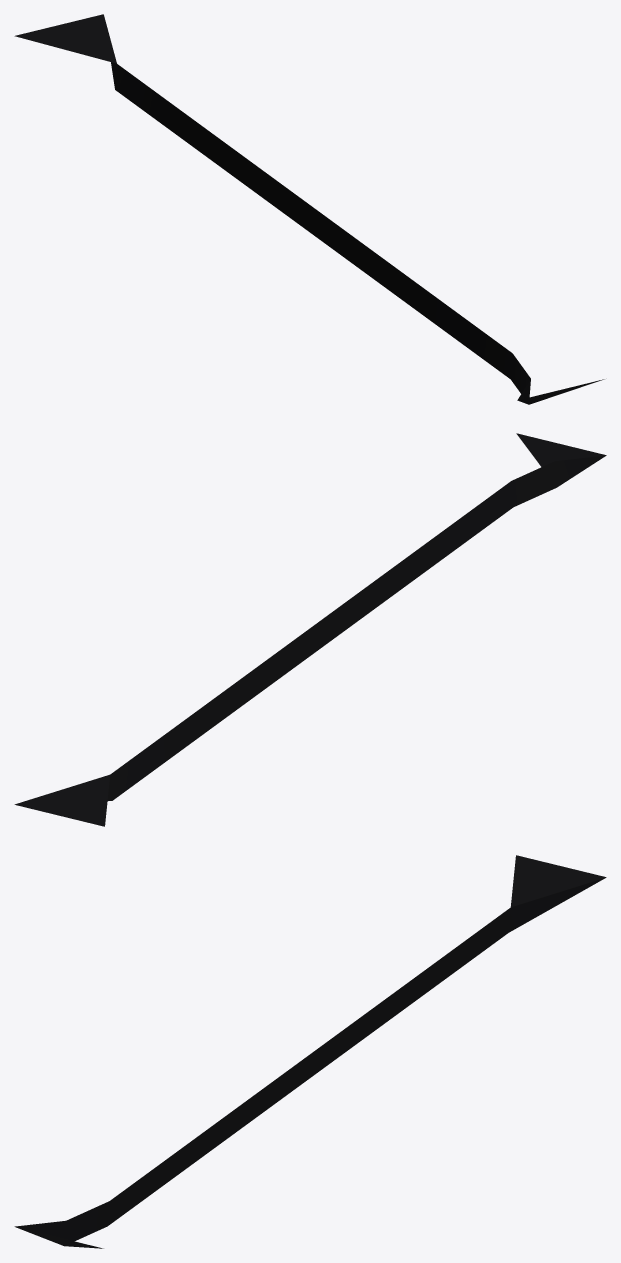
File: skirt_L_skirt.glb
The picture shows the model from 3 angles, top to bottom: view 1: azimuth 30°, elevation 25°; view 2: azimuth 150°, elevation 25°; view 3: azimuth 330°, elevation 25°; orthographic projection.
Parts seen in each view (by area): view 1: skirt_L_skirt; view 2: skirt_L_skirt; view 3: skirt_L_skirt.
Part boxes in pixels (x1,y1,x2,y2): skirt_L_skirt: (14, 14, 604, 404); skirt_L_skirt: (14, 433, 606, 826); skirt_L_skirt: (14, 855, 606, 1248).
Size of the model in its own units: 0.23 by 0.06 by 2.12.
Materials: 1 (1 with a texture image).
